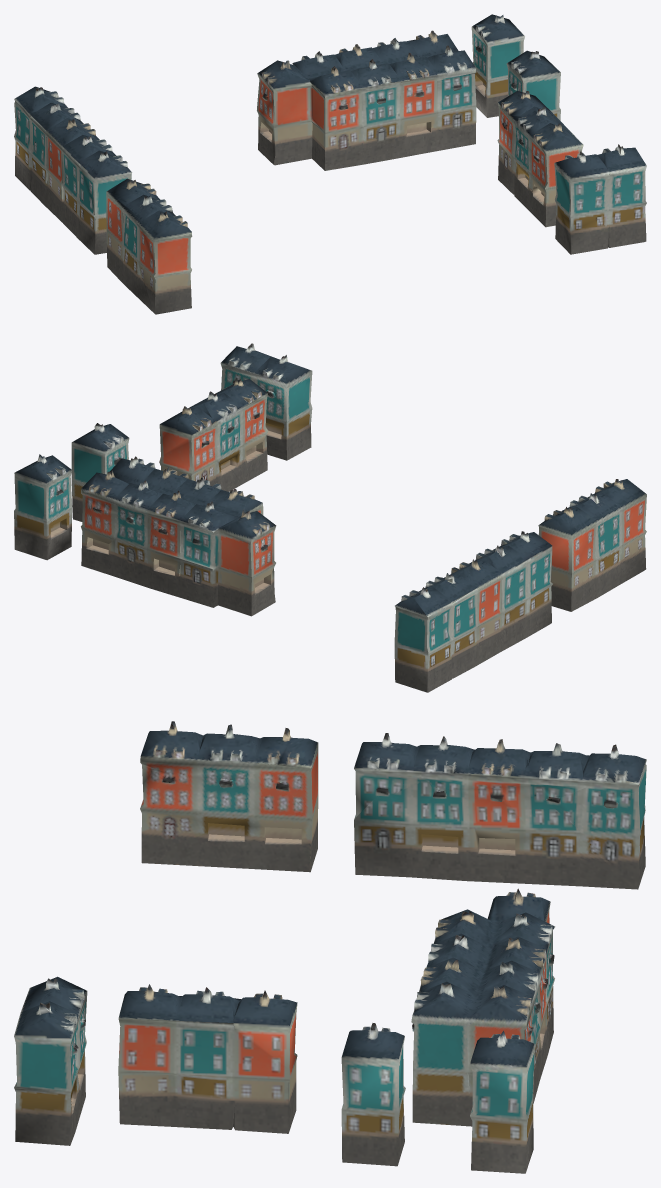
The model's file is clod_town_c03_02_clod001.gltf.
3 views of the same model, one above another, from view 1: azimuth 30°, elevation 25°; view 2: azimuth 150°, elevation 25°; view 3: azimuth 270°, elevation 25° (orthographic). The views are drawn at different scales.
Visible parts, largest first — view 1: clod_town_c03_02_clod001_000_meshShape:remesh_mat; view 2: clod_town_c03_02_clod001_000_meshShape:remesh_mat; view 3: clod_town_c03_02_clod001_000_meshShape:remesh_mat.
Boxes of the visible parts, x1,y1,x2,y2 form: clod_town_c03_02_clod001_000_meshShape:remesh_mat: [14, 14, 646, 314]; clod_town_c03_02_clod001_000_meshShape:remesh_mat: [14, 343, 646, 692]; clod_town_c03_02_clod001_000_meshShape:remesh_mat: [14, 721, 646, 1173].
Size of the model in its own units: 139 by 25.16 by 111.
1 material, 1 textured.
